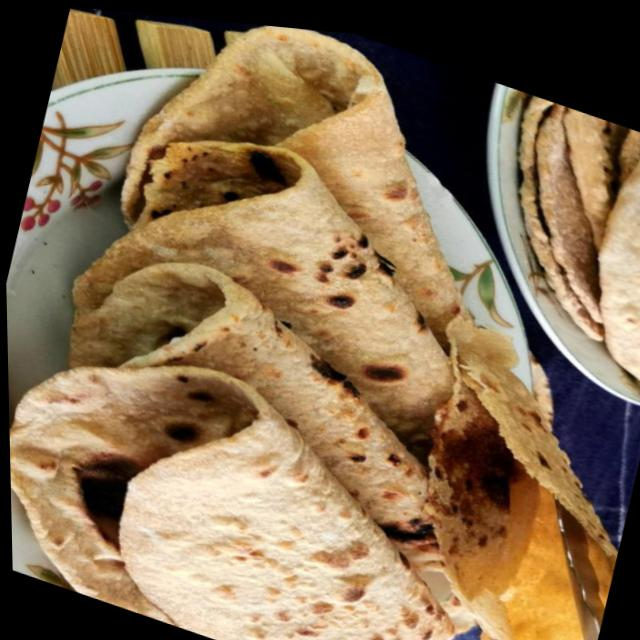CHAPATHI: (9, 26, 462, 640), (520, 96, 640, 379)
